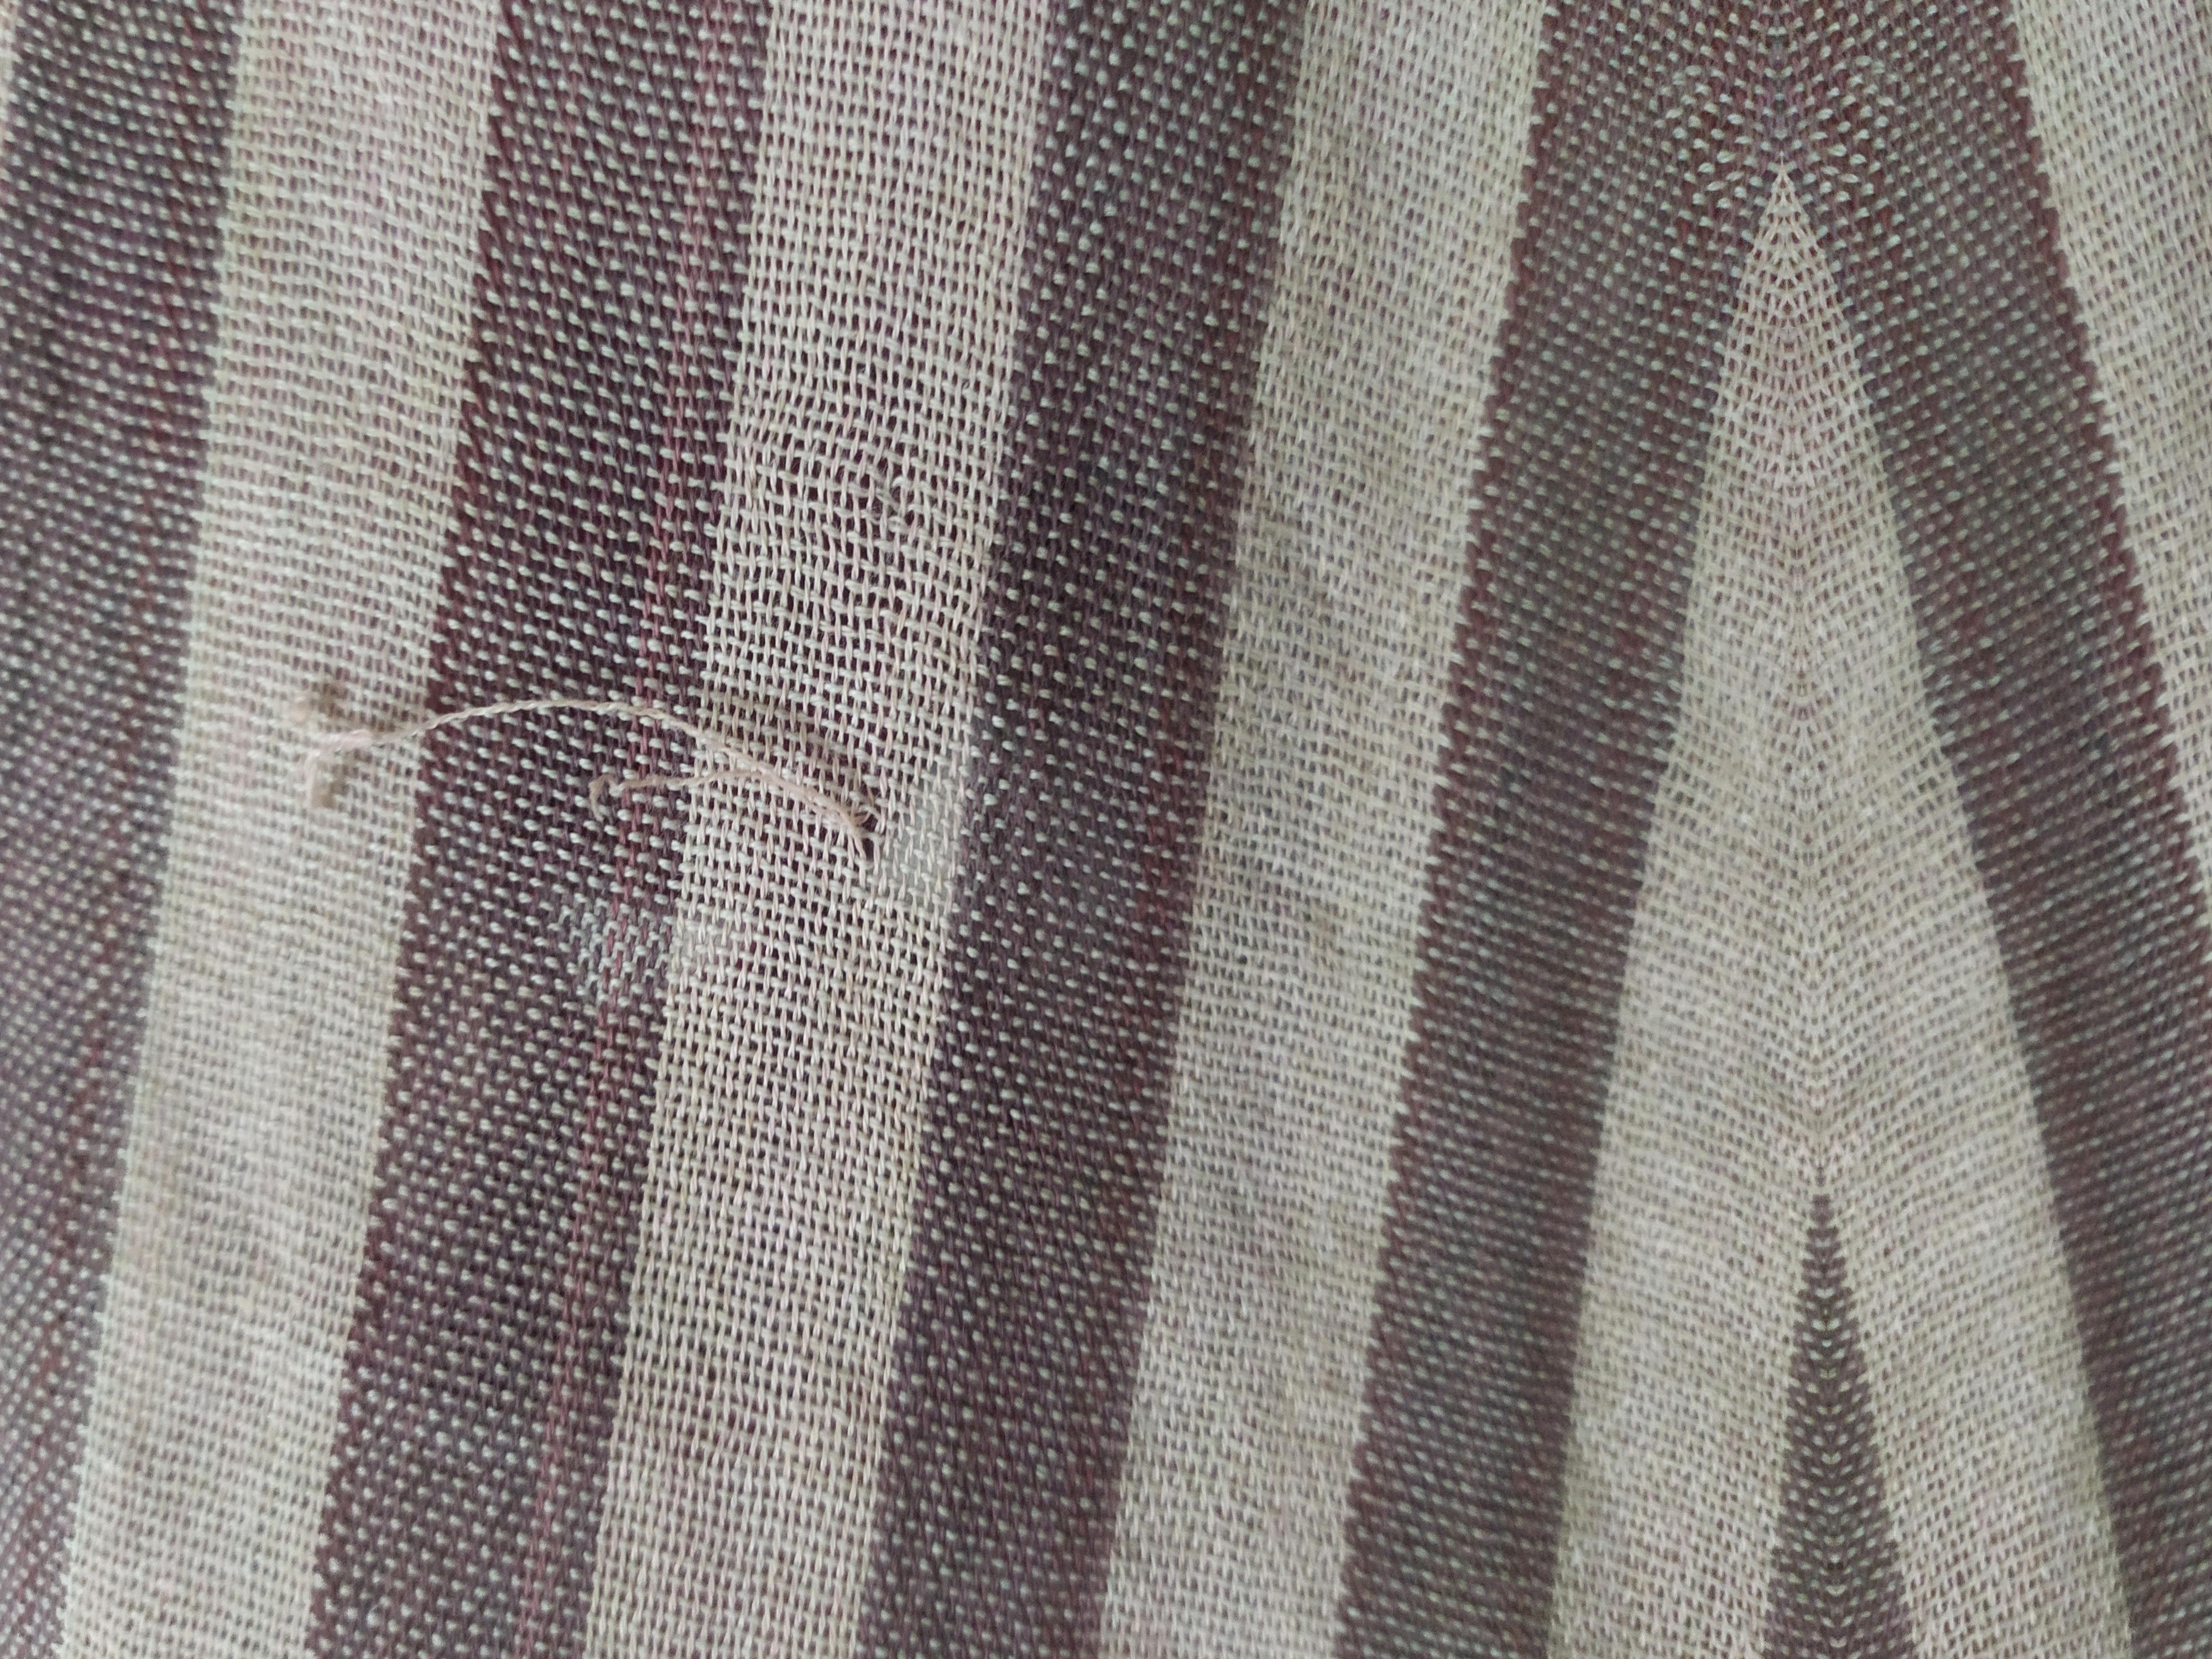snag: (265, 631, 984, 915)
